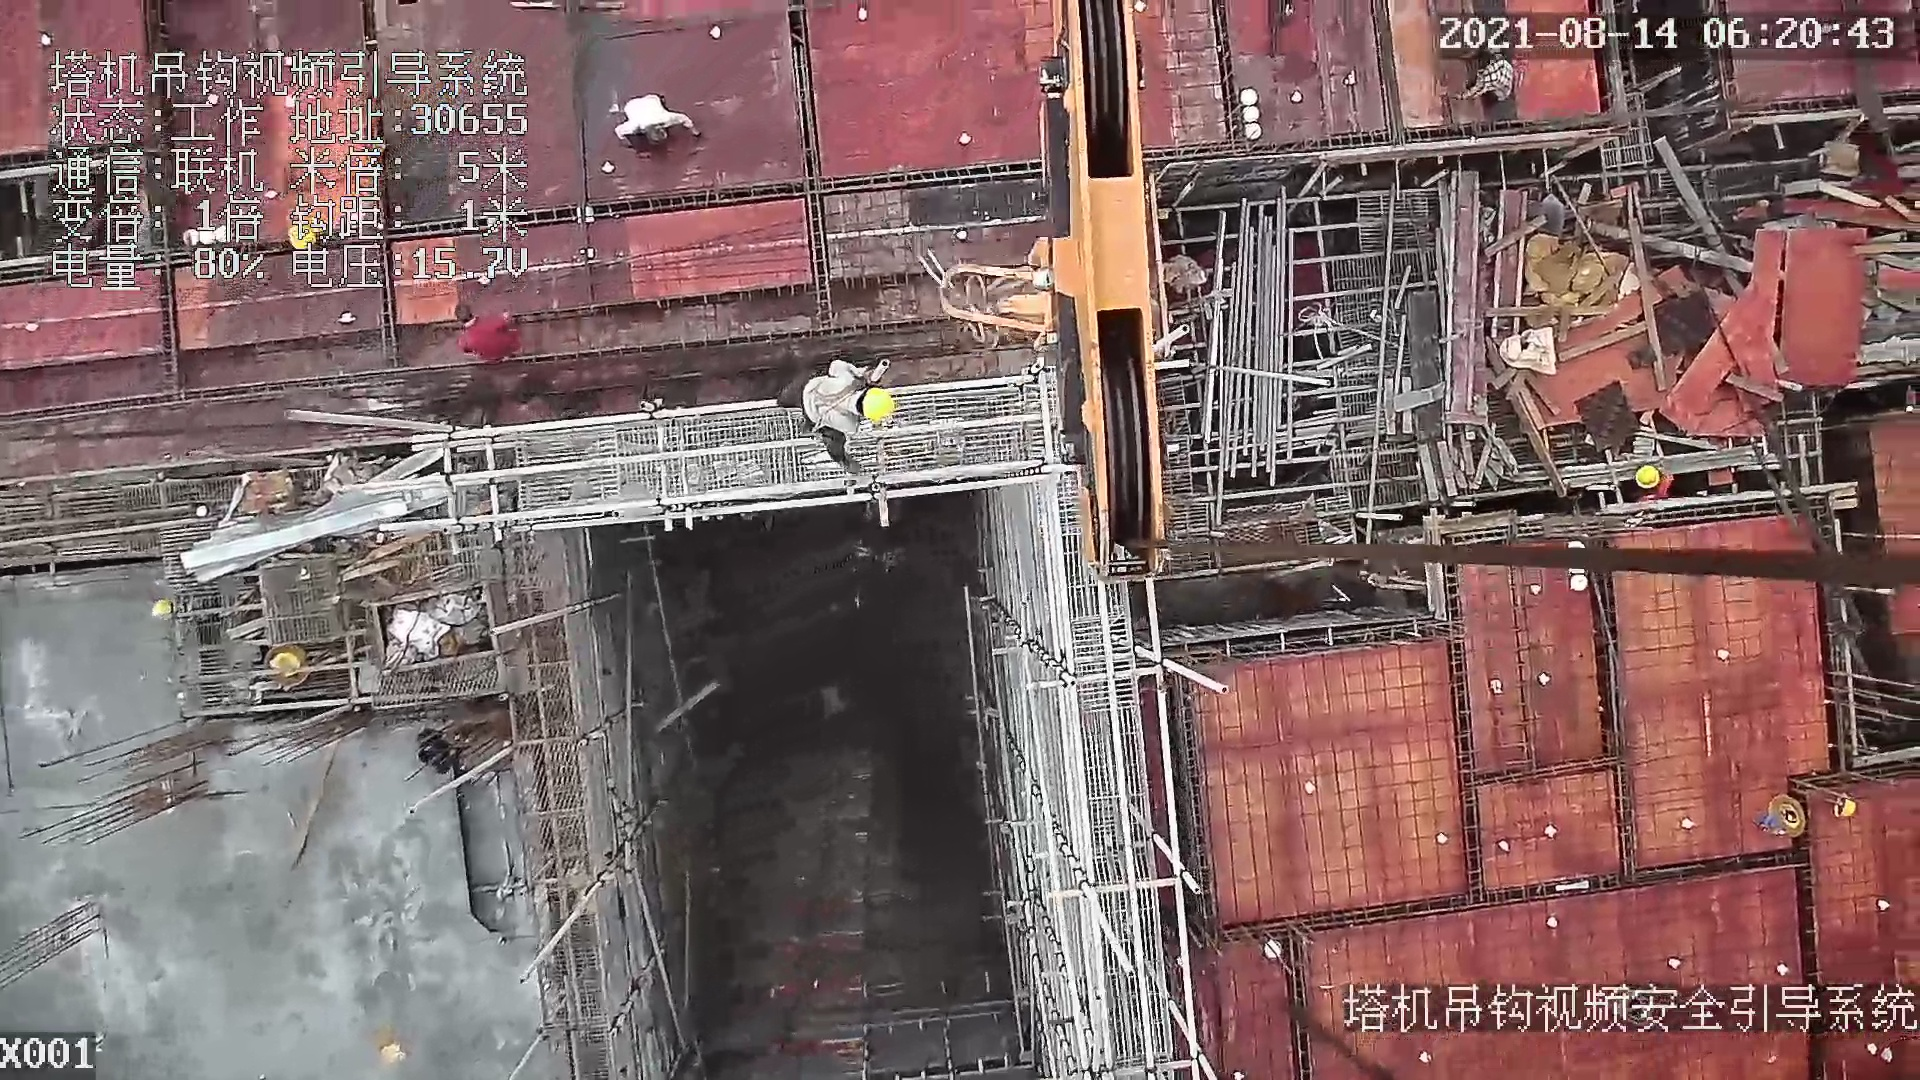helmet: (862, 383, 899, 420), (284, 226, 321, 254), (1636, 458, 1663, 490), (1834, 790, 1860, 819)
person: (782, 355, 892, 485), (612, 91, 707, 156), (449, 299, 526, 363), (1455, 34, 1521, 105)
